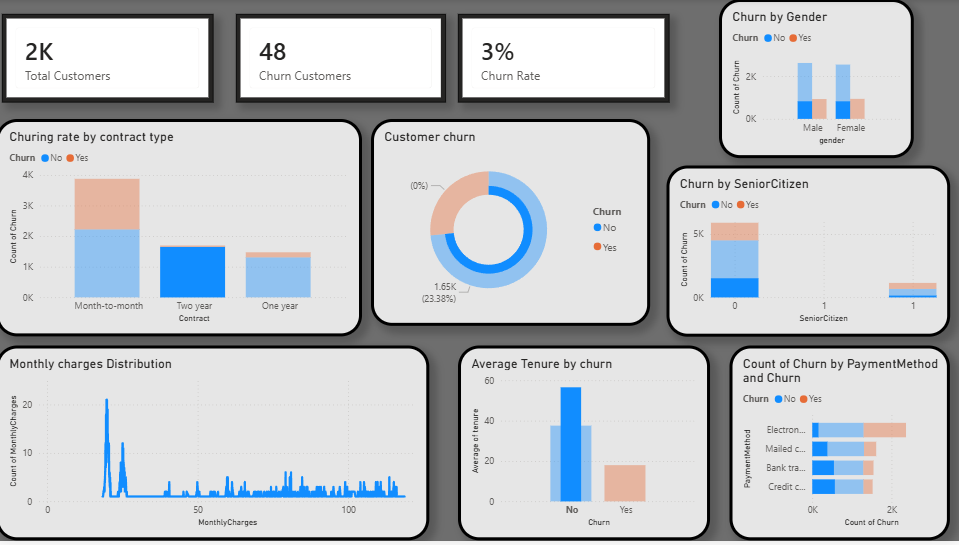

What the dashboard file says about the page in this screenshot:
{"tool":"powerbi","page":{"name":"Page 1","canvas":[1280,720],"ordinal":0},"visuals":[{"type":"cardVisual","fields":{"Data":["Sheet1.Total Customers"]},"box":[8,19.9,280.8,117.5],"z":0},{"type":"cardVisual","fields":{"Data":["Sheet1.Churn Customers"]},"box":[318.7,19.9,278.8,117.5],"z":1},{"type":"cardVisual","fields":{"Data":["Sheet1.Churn Rate"]},"box":[613.5,19.9,280.8,117.5],"z":2},{"type":"columnChart","title":"Churing rate by contract type","fields":{"Series":["Sheet1.Churn"],"Y":["CountNonNull(Sheet1.Churn)"],"Category":["Sheet1.Contract"]},"box":[0,159.3,486,288.8],"z":3},{"type":"donutChart","title":"Customer churn","fields":{"Category":["Sheet1.Churn"],"Y":["CountNonNull(Sheet1.Churn)"]},"box":[497.9,159.3,370.5,274.9],"z":4},{"type":"clusteredColumnChart","title":"Churn by Gender","fields":{"Category":["Sheet1.gender"],"Y":["CountNonNull(Sheet1.Churn)"],"Series":["Sheet1.Churn"]},"box":[960,0,258.9,211.1],"z":5},{"type":"columnChart","title":"Churn by SeniorCitizen ","fields":{"Category":["Sheet1.SeniorCitizen"],"Y":["CountNonNull(Sheet1.Churn)"],"Series":["Sheet1.Churn"]},"box":[890.3,221.1,376.4,227.1],"z":6},{"type":"lineChart","title":"Monthly charges Distribution ","fields":{"Category":["Sheet1.MonthlyCharges"],"Y":["CountNonNull(Sheet1.MonthlyCharges)"]},"box":[0,460.1,575.6,258.9],"z":7},{"type":"columnChart","title":"Average Tenure by churn ","fields":{"Category":["Sheet1.Churn"],"Y":["Avg(Sheet1.tenure)"]},"box":[613.5,460.1,334.6,258.9],"z":8},{"type":"barChart","fields":{"Category":["Sheet1.PaymentMethod"],"Y":["CountNonNull(Sheet1.Churn)"],"Series":["Sheet1.Churn"]},"box":[974,460.1,292.8,258.9],"z":9}]}

Visuals, with their boxes in screenshot pixels (x1, y1, x2, y2), scaled from the page's 1280x720 canvas onto the 959x545 screenshot:
cardVisual - Sheet1.Total Customers: (6, 15, 216, 104)
cardVisual - Sheet1.Churn Customers: (239, 15, 448, 104)
cardVisual - Sheet1.Churn Rate: (460, 15, 670, 104)
"Churing rate by contract type" columnChart: (0, 121, 364, 339)
"Customer churn" donutChart: (373, 121, 651, 329)
"Churn by Gender" clusteredColumnChart: (719, 0, 913, 160)
"Churn by SeniorCitizen " columnChart: (667, 167, 949, 339)
"Monthly charges Distribution " lineChart: (0, 348, 431, 544)
"Average Tenure by churn " columnChart: (460, 348, 710, 544)
barChart - Sheet1.PaymentMethod x CountNonNull(Sheet1.Churn): (730, 348, 949, 544)
